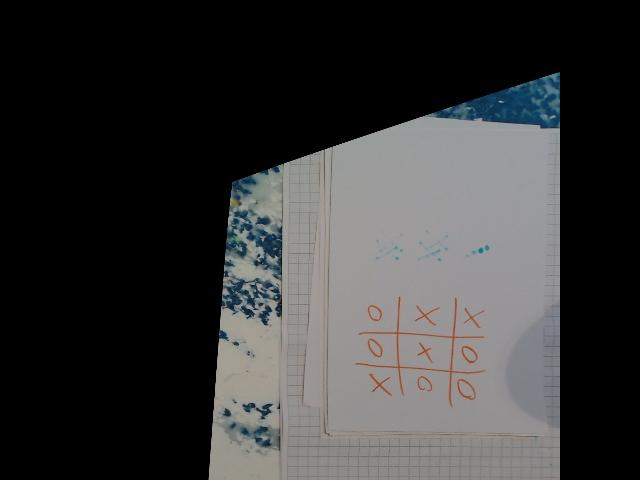O: (452, 376, 478, 402), (363, 302, 388, 326), (364, 337, 387, 361), (458, 343, 482, 365), (413, 374, 433, 396)
X: (364, 372, 394, 398), (411, 304, 439, 330), (414, 341, 438, 366), (461, 304, 481, 330)
grid: (356, 292, 484, 406)
